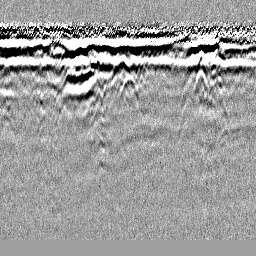cavity: (119, 74, 140, 102)
